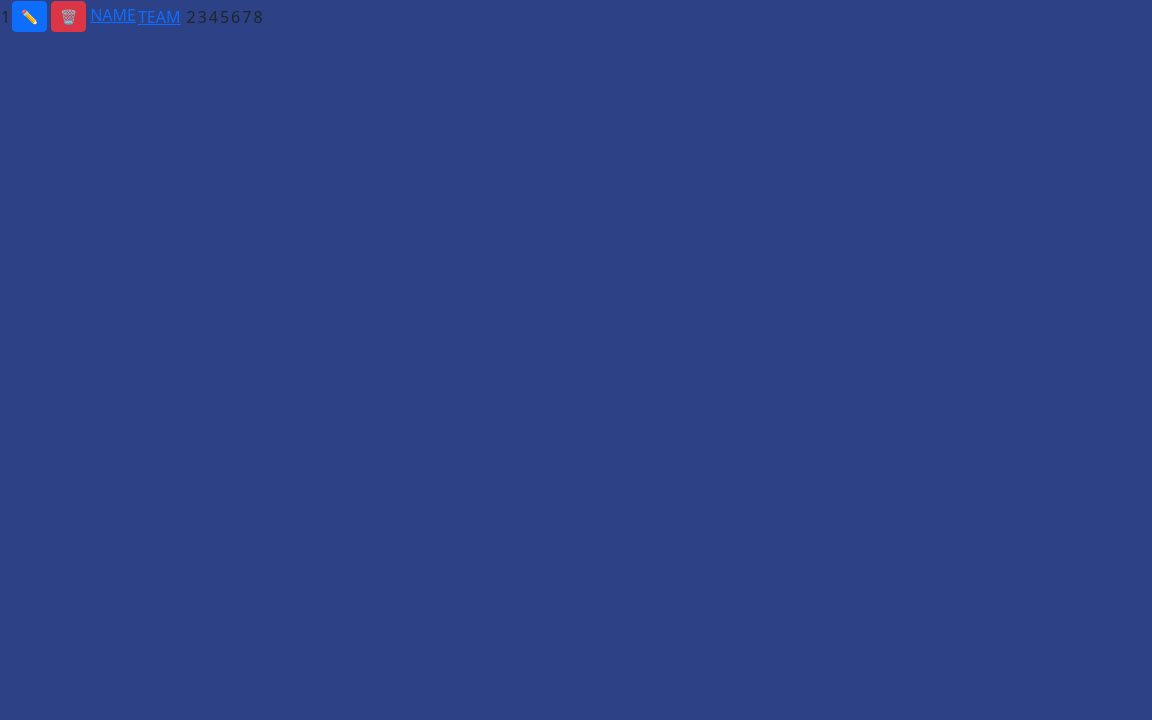
DivisionPlayer › when logged in › interactivity › can handle error when deleting player
Click the button "🗑️" at coordinates (69, 16), box [51,1,86,32]
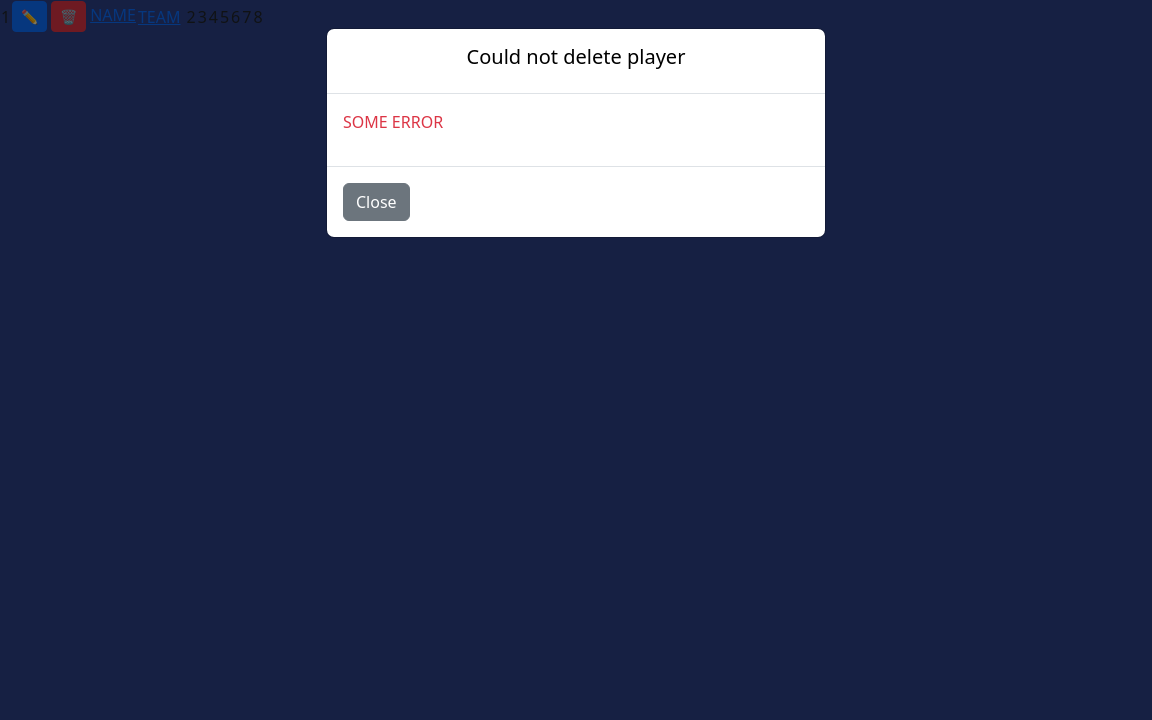
Check: the text "Could not delete player" is shown, box [467,45,685,69]
Check: the text "SOME ERROR" is shown, box [343,111,443,133]
